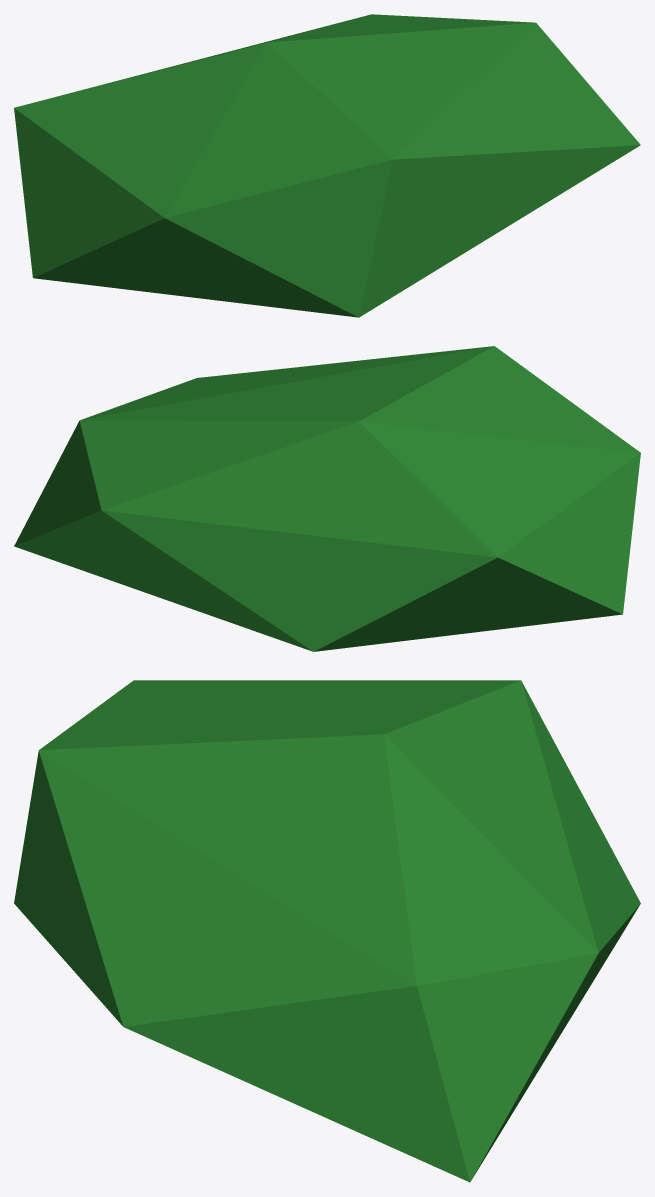
Rendered from bushOne.fbx.
3 views of the same model, one above another, from view 1: azimuth 30°, elevation 25°; view 2: azimuth 150°, elevation 25°; view 3: azimuth 270°, elevation 25° (orthographic). The views are drawn at different scales.
Parts seen in each view (by area): view 1: Icosphere; view 2: Icosphere; view 3: Icosphere.
Part boxes in pixels (bbox=[...]): Icosphere: bbox=[14, 14, 640, 317]; Icosphere: bbox=[14, 346, 640, 651]; Icosphere: bbox=[14, 680, 640, 1182].
Bounding box in the file's own units: 236 × 84.55 × 170.
